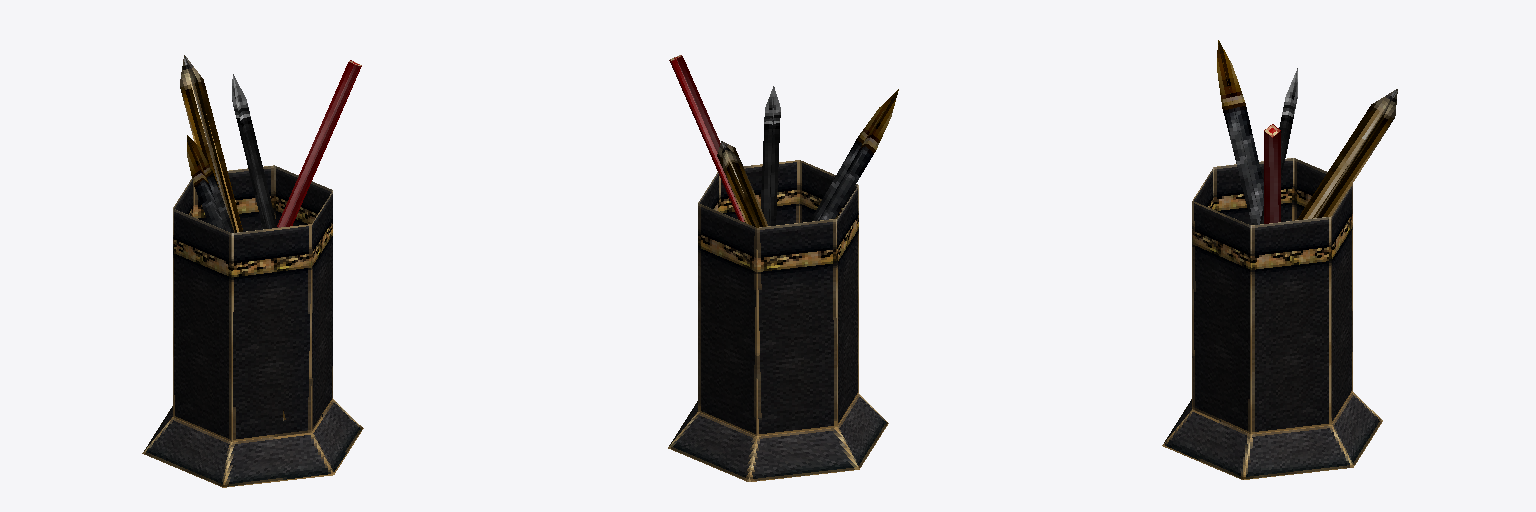
The picture shows the model from 3 angles: view 1: azimuth 30°, elevation 25°; view 2: azimuth 150°, elevation 25°; view 3: azimuth 270°, elevation 25°; orthographic projection.
Parts seen in each view (by area): view 1: Pencil_holder; view 2: Pencil_holder; view 3: Pencil_holder.
Boxes of the visible parts, x1=… form: Pencil_holder: x1=142, y1=55, x2=363, y2=487; Pencil_holder: x1=668, y1=55, x2=898, y2=481; Pencil_holder: x1=1162, y1=40, x2=1397, y2=479.
Size of the model in its own units: 0.1318 by 0.2222 by 0.1315.
Materials: 1 (1 with a texture image).